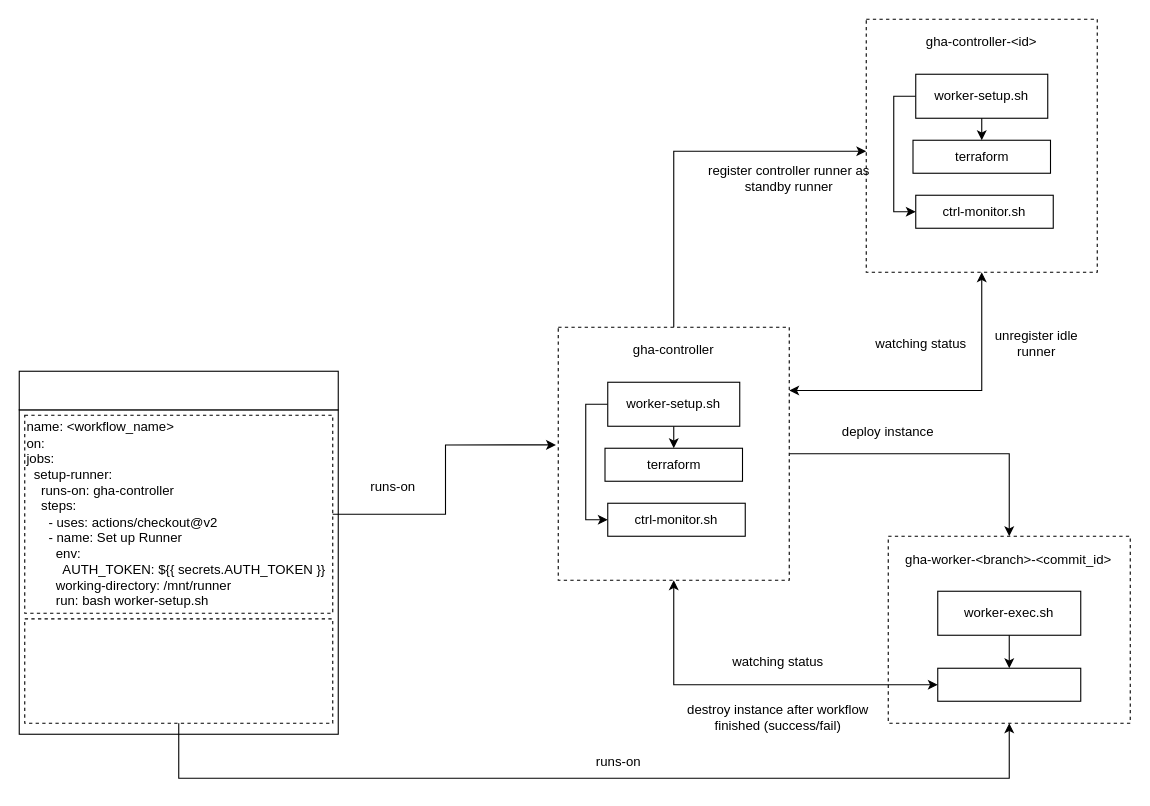
Image size: 1150x806. Some labels were removed from this diagram. Here are the shapes that lost their labels. From the top down, the box of each, then its label:
(18, 370, 338, 410): <workflow_name>.yml
(24, 618, 333, 723): job1: needs: setup-runner runs-on: <custom_runner_label> steps: - -
(937, 667, 1081, 701): worker-monitor.sh
